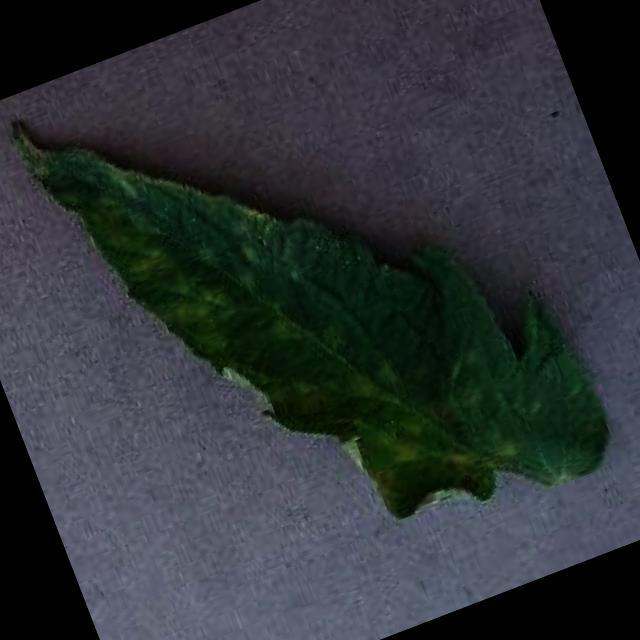Tomato mold leaf: (8, 0, 624, 620)
